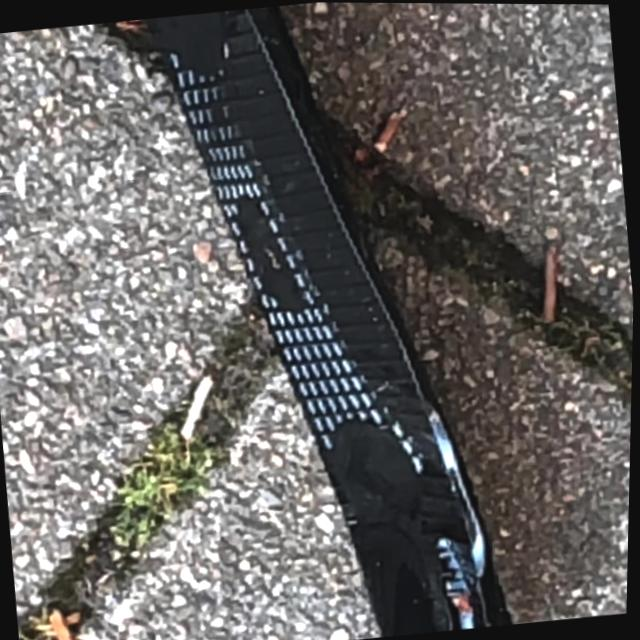Plastic: (116, 1, 532, 640)
